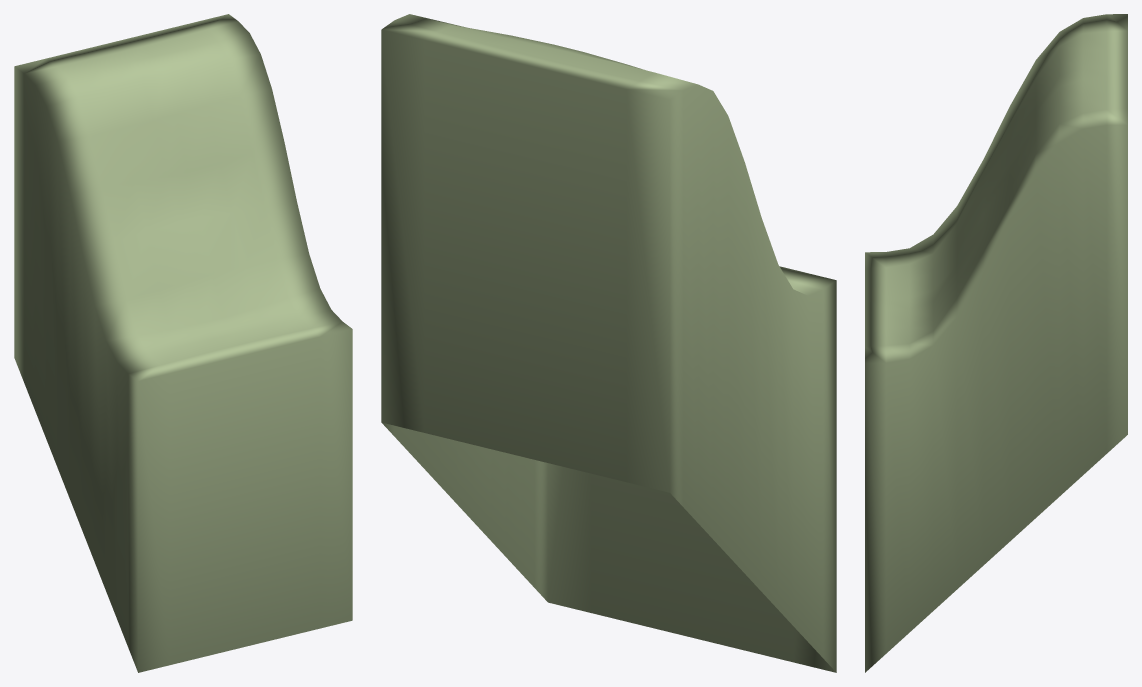
Rendered from ground-ramp-22.glb.
The picture shows the model from 3 angles, left to right: view 1: azimuth 30°, elevation 25°; view 2: azimuth 150°, elevation 25°; view 3: azimuth 270°, elevation 25°; orthographic projection. The views are drawn at different scales.
Visible parts, largest first — view 1: ground-ramp-22; view 2: ground-ramp-22; view 3: ground-ramp-22.
Part boxes in pixels (x1,y1,x2,y2): ground-ramp-22: (14, 14, 352, 672); ground-ramp-22: (381, 14, 836, 672); ground-ramp-22: (865, 14, 1127, 672).
Bounding box in the file's own units: 1 × 2.3 × 1.
